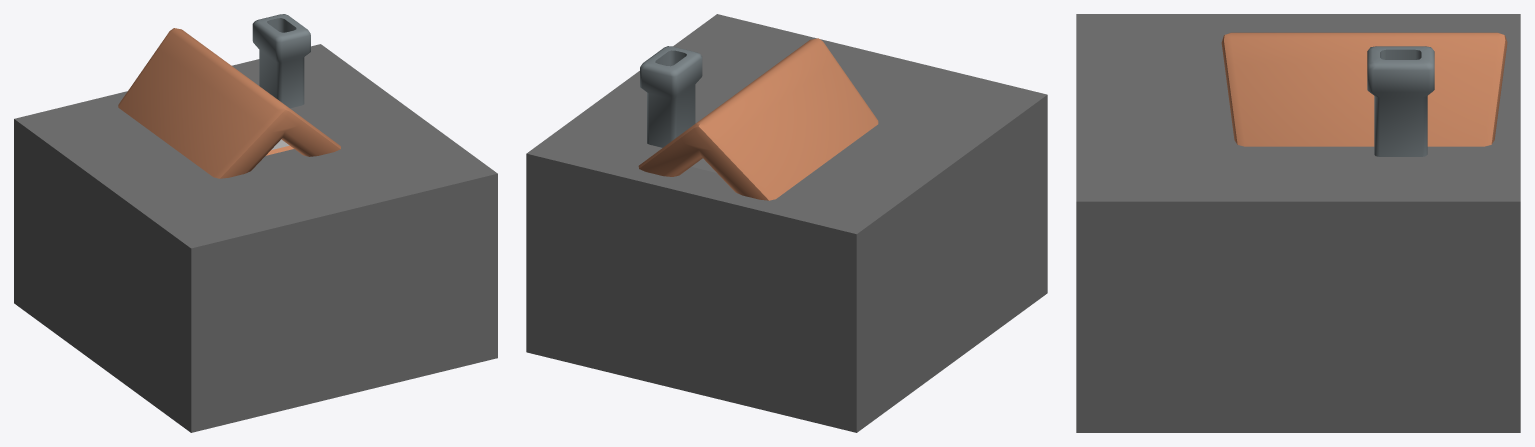
The model's file is house.gltf.glb.
3 views of the same model, side by side, from view 1: azimuth 30°, elevation 25°; view 2: azimuth 150°, elevation 25°; view 3: azimuth 270°, elevation 25° (orthographic). The views are drawn at different scales.
Parts seen in each view (by area): view 1: Box, Cube1019_4, Cube1019_1; view 2: Box, Cube1019_4, Cube1019_1; view 3: Box, Cube1019_4, Cube1019_1.
Boxes of the visible parts, x1=… form: Box: x1=14, y1=44, x2=497, y2=432; Cube1019_4: x1=118, y1=28, x2=340, y2=178; Cube1019_1: x1=252, y1=14, x2=310, y2=108; Box: x1=526, y1=14, x2=1047, y2=432; Cube1019_4: x1=638, y1=38, x2=878, y2=200; Cube1019_1: x1=640, y1=46, x2=702, y2=147; Box: x1=1076, y1=14, x2=1520, y2=432; Cube1019_4: x1=1221, y1=32, x2=1507, y2=146; Cube1019_1: x1=1367, y1=46, x2=1434, y2=156.
Bounding box in the file's own units: 1.74 × 1.4 × 1.74.
